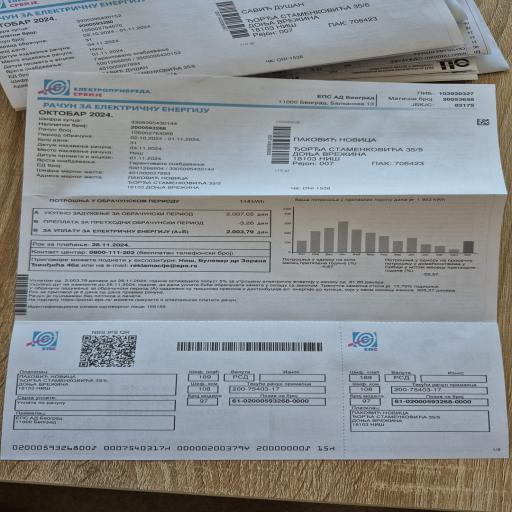racun_za_struju: (28, 193, 280, 250)
